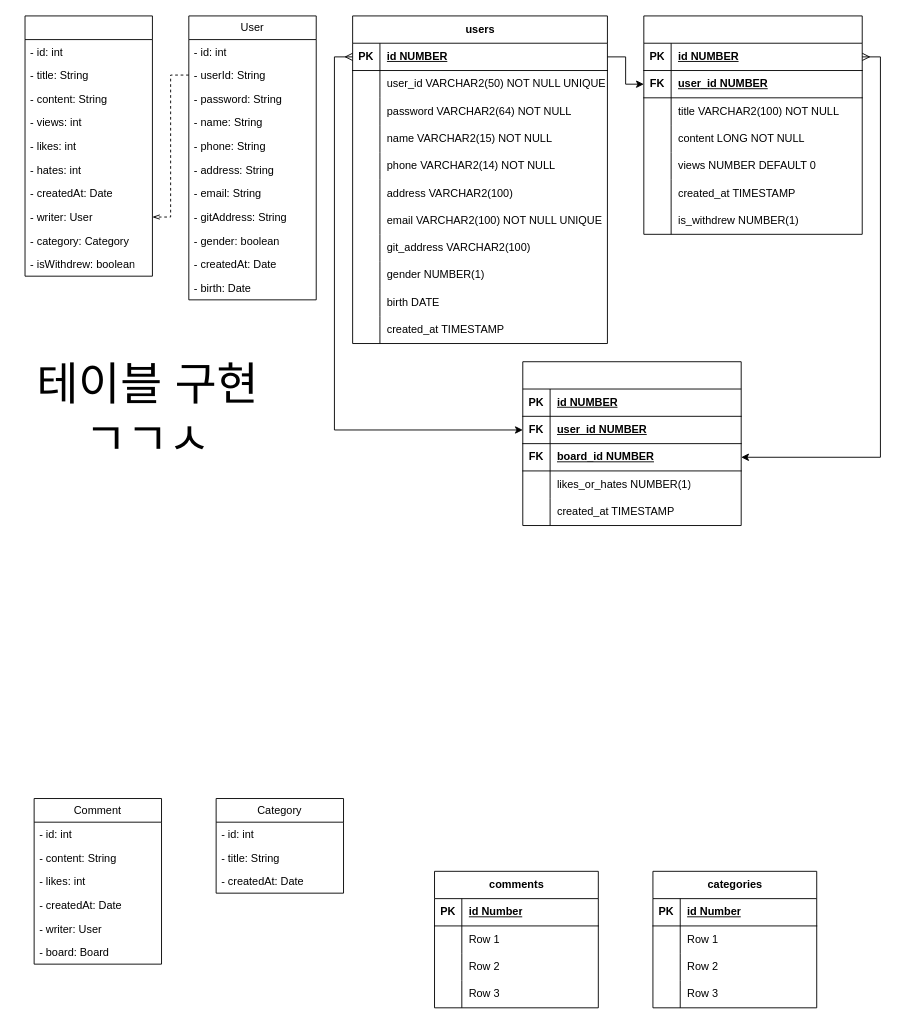
The diagram is 905 pixels wide and 1024 high, and some of its shapes have lost their labels. The shapes that lost their labels are listed below. From the top down, each one's box as (x1, y1, x2, y2) in pixels, then its label:
(643, 15, 862, 234): boards
(24, 15, 152, 276): Board
(522, 361, 741, 526): likes_and_hates
